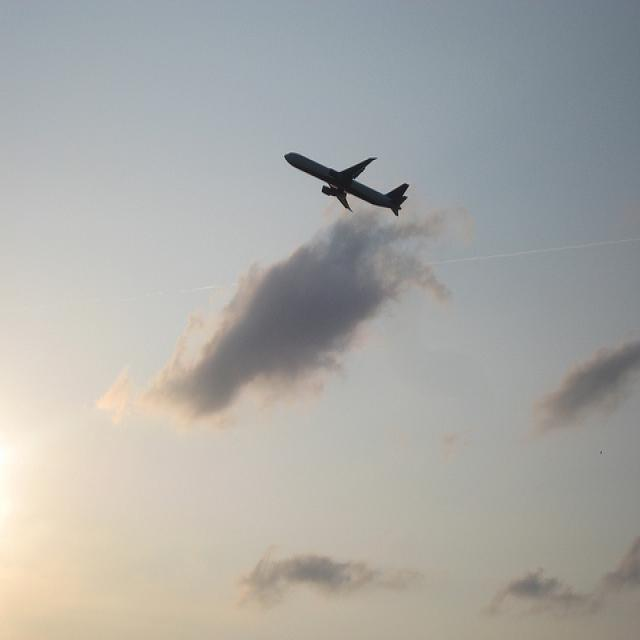airplane: (283, 149, 411, 219)
